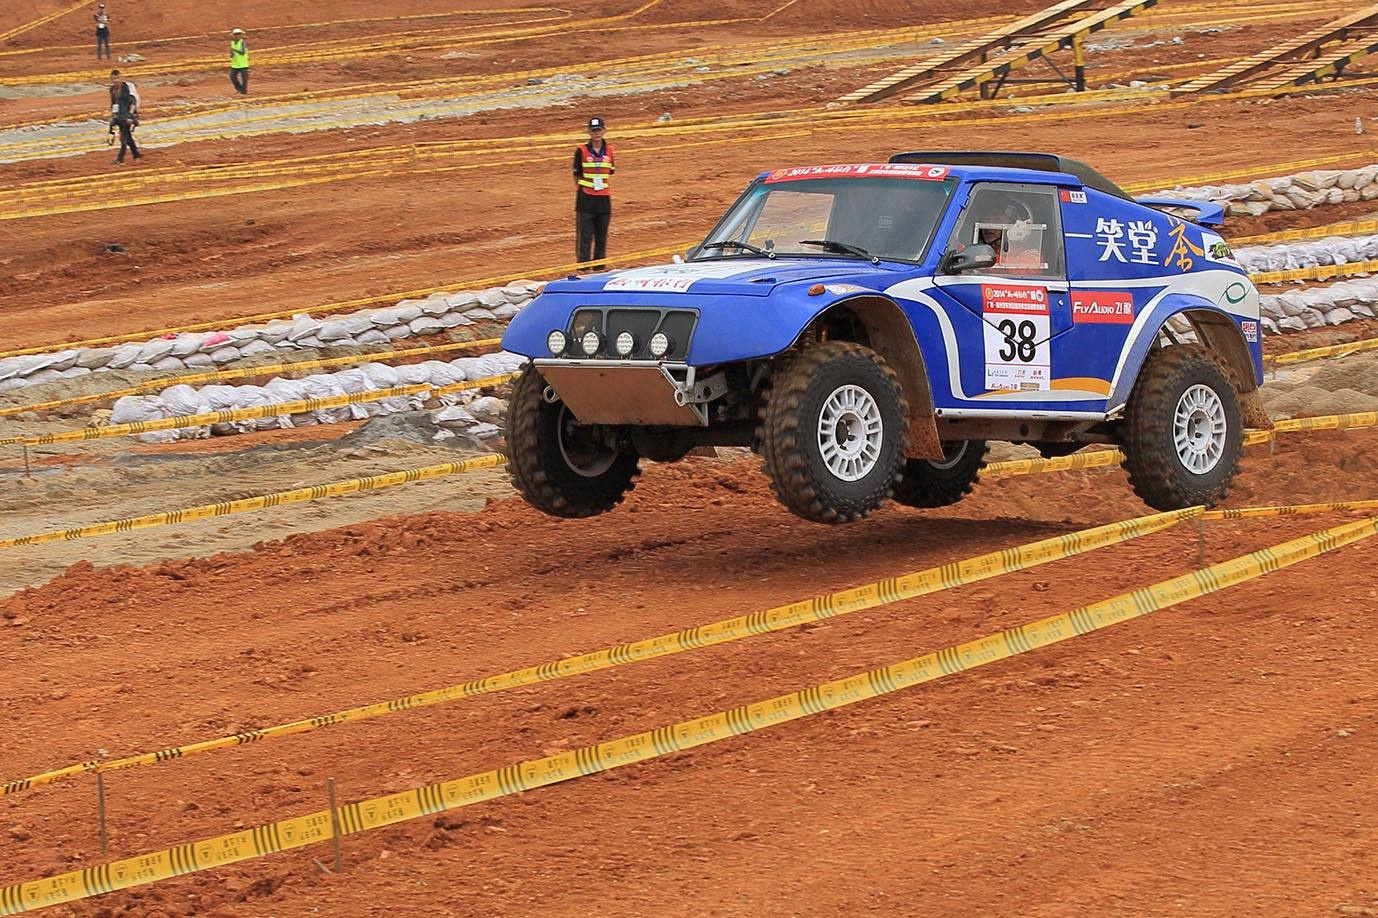racing car: (481, 137, 1320, 548)
